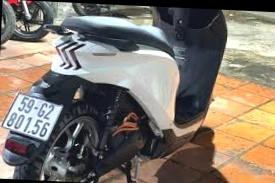Bien-so: (0, 89, 63, 143)
